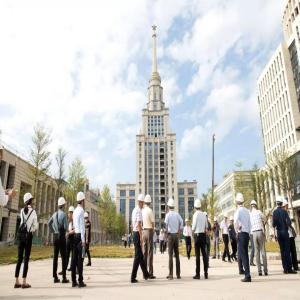white: (23, 193, 35, 209), (77, 192, 86, 208), (167, 198, 177, 212), (137, 195, 146, 209), (194, 199, 203, 213), (236, 194, 245, 208), (59, 197, 67, 212), (68, 206, 75, 221), (277, 196, 284, 209), (145, 194, 151, 208), (251, 201, 258, 211), (84, 212, 90, 223), (284, 201, 289, 212), (185, 218, 190, 227), (224, 213, 229, 222), (230, 216, 235, 225), (214, 218, 219, 225), (161, 229, 164, 235)
